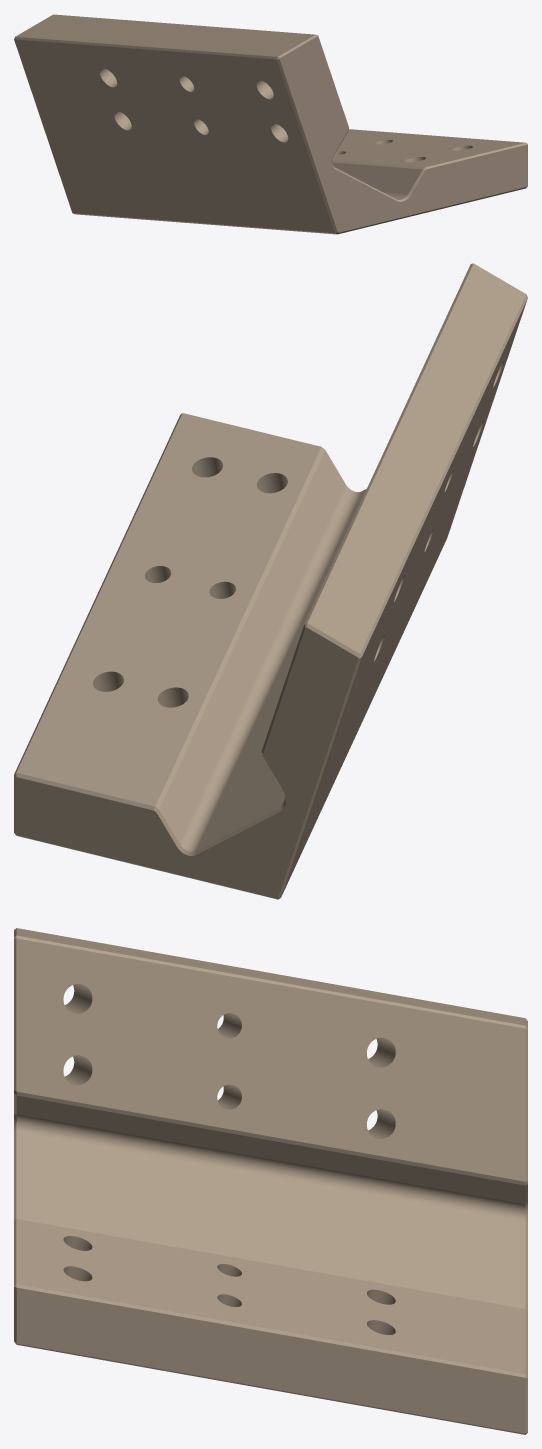
3 views of the same model, one above another, from view 1: azimuth 30°, elevation 25°; view 2: azimuth 150°, elevation 25°; view 3: azimuth 270°, elevation 25° (orthographic). The views are drawn at different scales.
Parts seen in each view (by area): view 1: CB-02; view 2: CB-02; view 3: CB-02.
Boxes of the visible parts, x1,y1,x2,y2 form: CB-02: [14, 14, 527, 234]; CB-02: [14, 263, 527, 899]; CB-02: [14, 928, 527, 1434].
Bounding box in the file's own units: 386 × 351 × 400.
